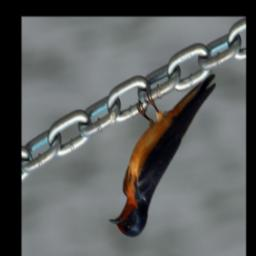Swallow: (108, 69, 217, 238)
